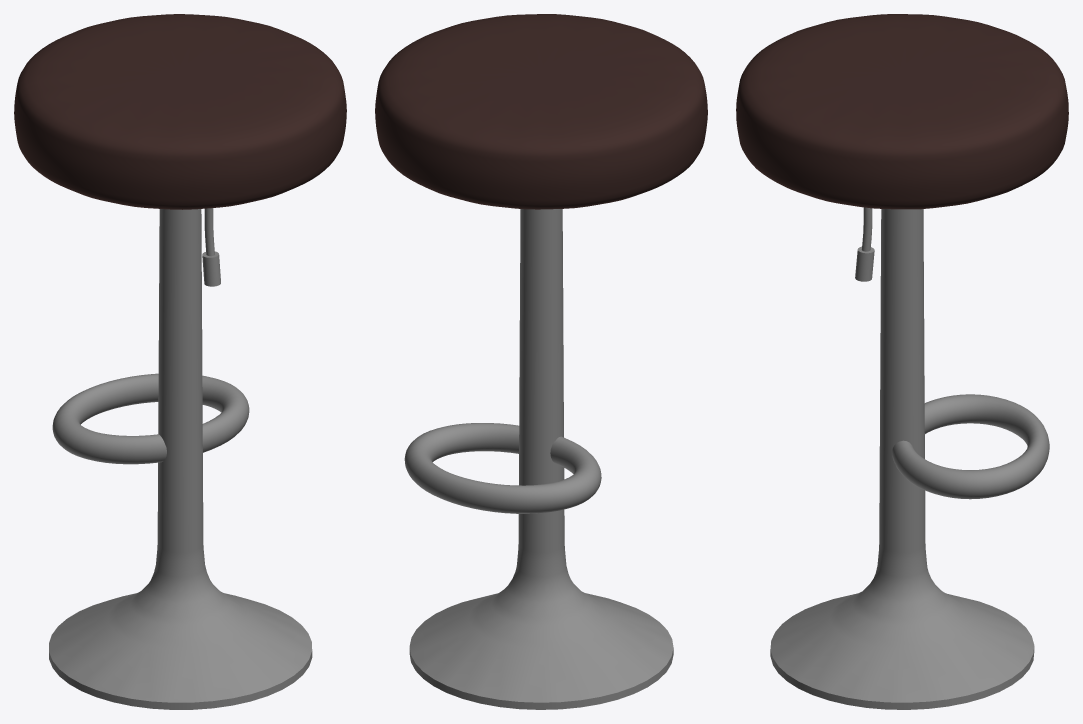
The model's file is Tabouret4_7.fbx.
The picture shows the model from 3 angles, left to right: view 1: azimuth 30°, elevation 25°; view 2: azimuth 150°, elevation 25°; view 3: azimuth 270°, elevation 25°; orthographic projection.
Parts seen in each view (by area): view 1: pCylinder231, pCylinder232, pTorus1, pCylinder233; view 2: pCylinder231, pCylinder232, pTorus1; view 3: pCylinder231, pCylinder232, pTorus1, pCylinder233.
Boxes of the visible parts, box(x1,y1,x2,y2) form: pCylinder231: box(14, 14, 346, 209); pCylinder232: box(49, 209, 312, 709); pTorus1: box(52, 373, 249, 464); pCylinder233: box(202, 208, 220, 286); pCylinder231: box(375, 14, 707, 209); pCylinder232: box(409, 209, 673, 709); pTorus1: box(404, 423, 601, 513); pCylinder231: box(736, 14, 1068, 209); pCylinder232: box(770, 209, 1034, 709); pTorus1: box(892, 394, 1049, 499); pCylinder233: box(855, 207, 874, 281).
Size of the model in its own units: 32.76 by 63.14 by 32.76.
